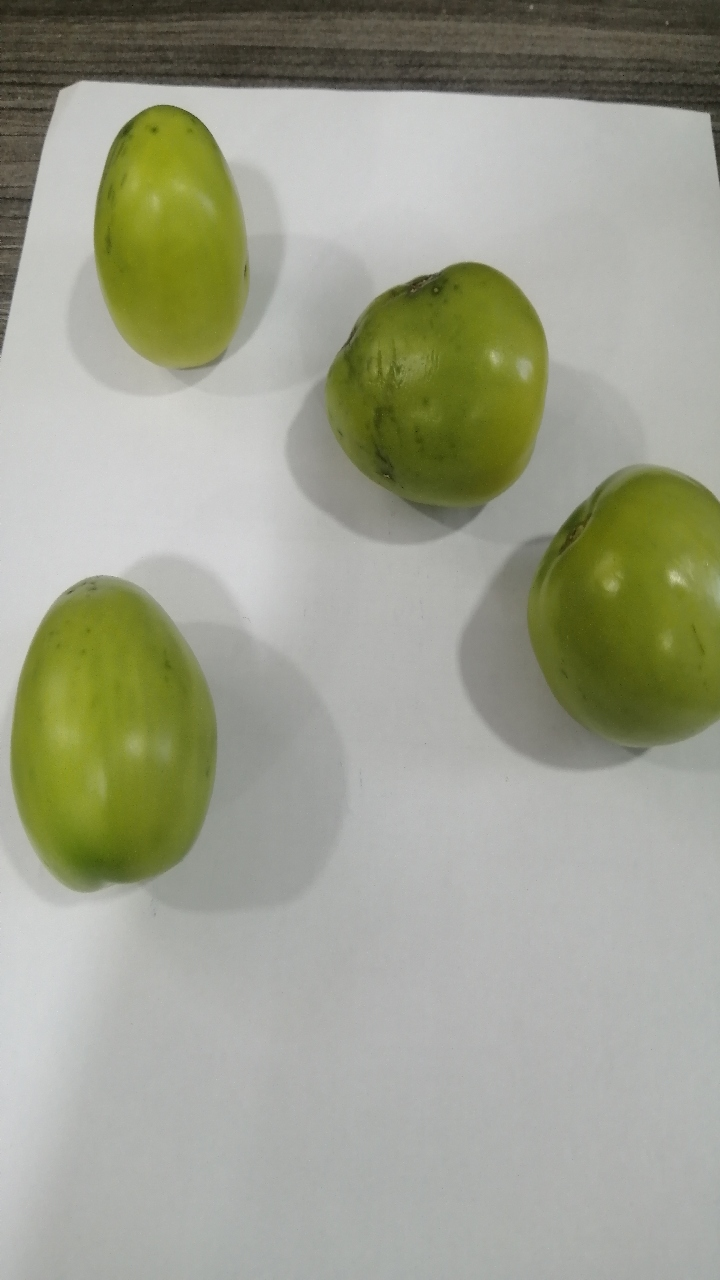tomateVerde: (294, 203, 574, 542), (4, 543, 235, 925), (503, 434, 720, 785), (61, 80, 289, 400)
